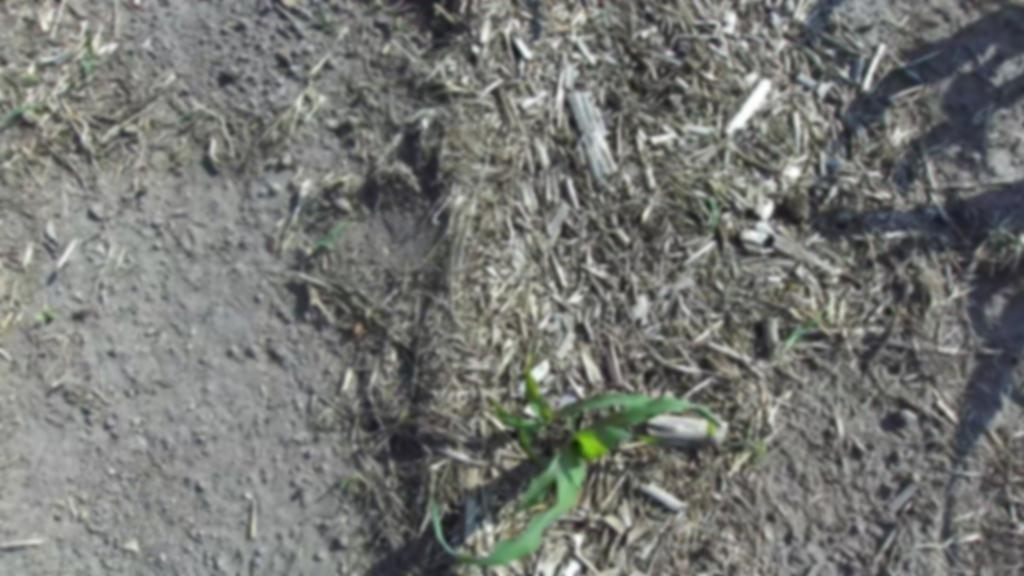BroWeed: (311, 215, 346, 255), (336, 475, 361, 500), (35, 302, 61, 326), (8, 101, 35, 120), (749, 436, 767, 458), (395, 19, 416, 37), (315, 8, 332, 25), (363, 562, 373, 572)
Maize: (412, 350, 733, 576), (482, 331, 655, 480)
NarWeed: (778, 307, 826, 354), (83, 35, 97, 79)
